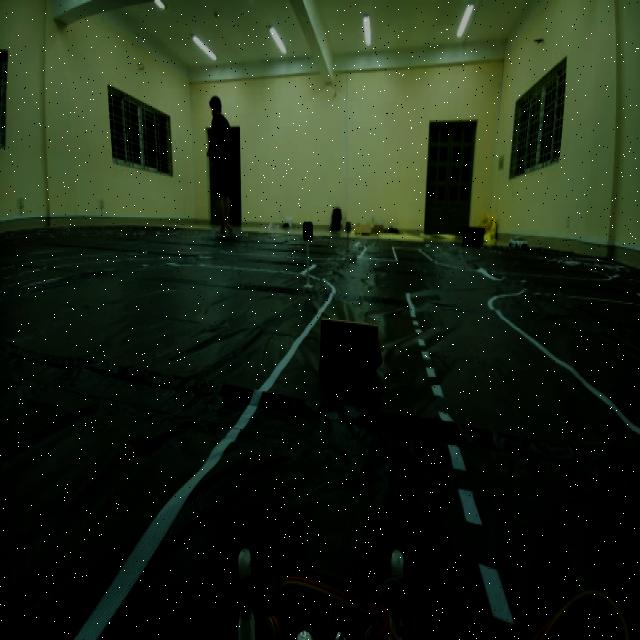roadblock: (314, 310, 391, 404)
